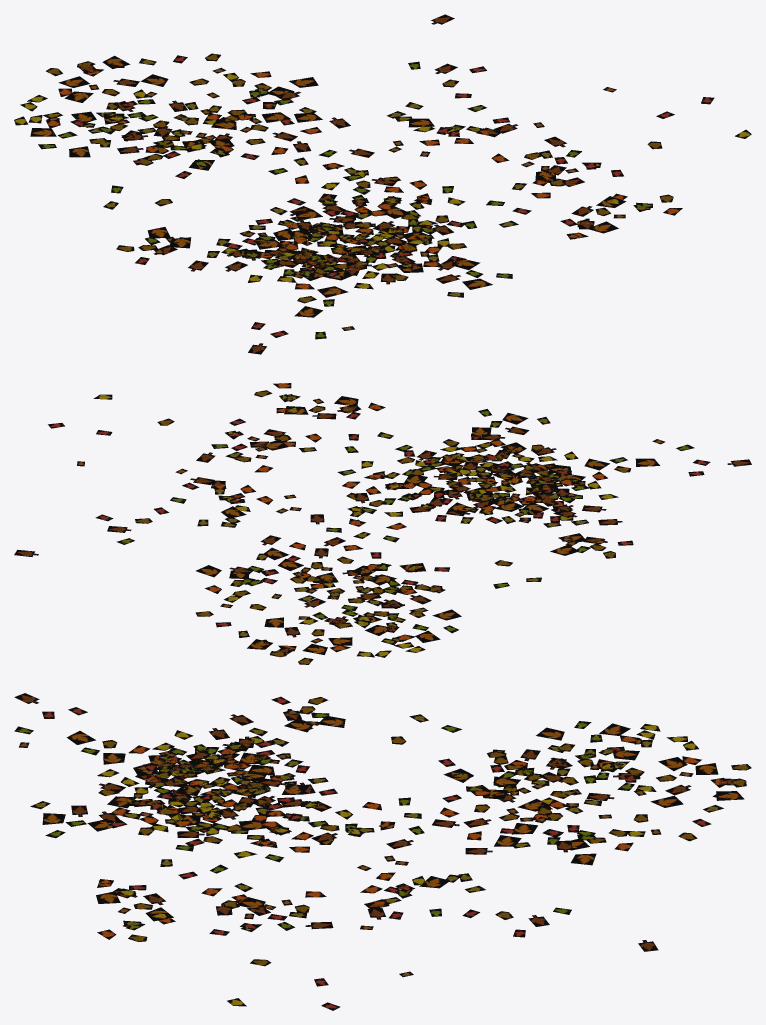
Rendered from leaf_pile_4.fbx.
The picture shows the model from 3 angles, top to bottom: view 1: azimuth 30°, elevation 25°; view 2: azimuth 150°, elevation 25°; view 3: azimuth 270°, elevation 25°; orthographic projection. The views are drawn at different scales.
Visible parts, largest first — view 1: leaf_pile_4; view 2: leaf_pile_4; view 3: leaf_pile_4.
Boxes of the visible parts, box(x1,y1,x2,y2) form: leaf_pile_4: box(14, 14, 751, 354); leaf_pile_4: box(14, 383, 751, 664); leaf_pile_4: box(14, 693, 751, 1010).
Bounding box in the file's own units: 88.3 × 1.9e-06 × 86.62.
